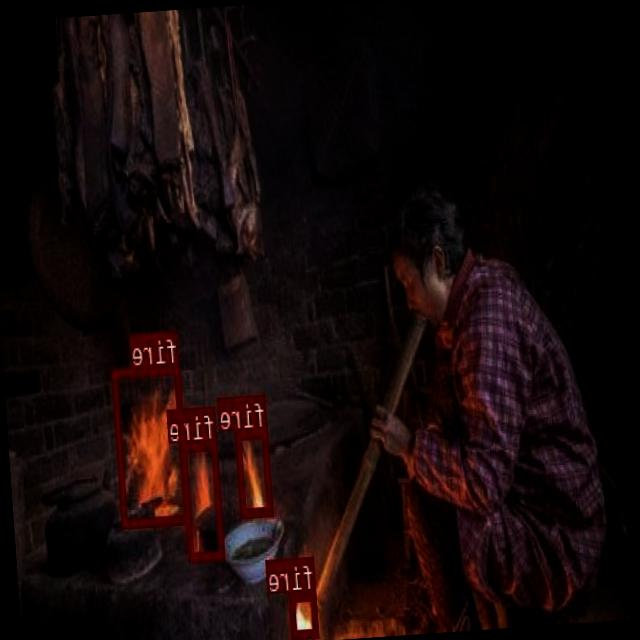fire: (112, 362, 192, 526), (182, 439, 226, 560), (237, 426, 274, 516), (289, 590, 320, 638)
